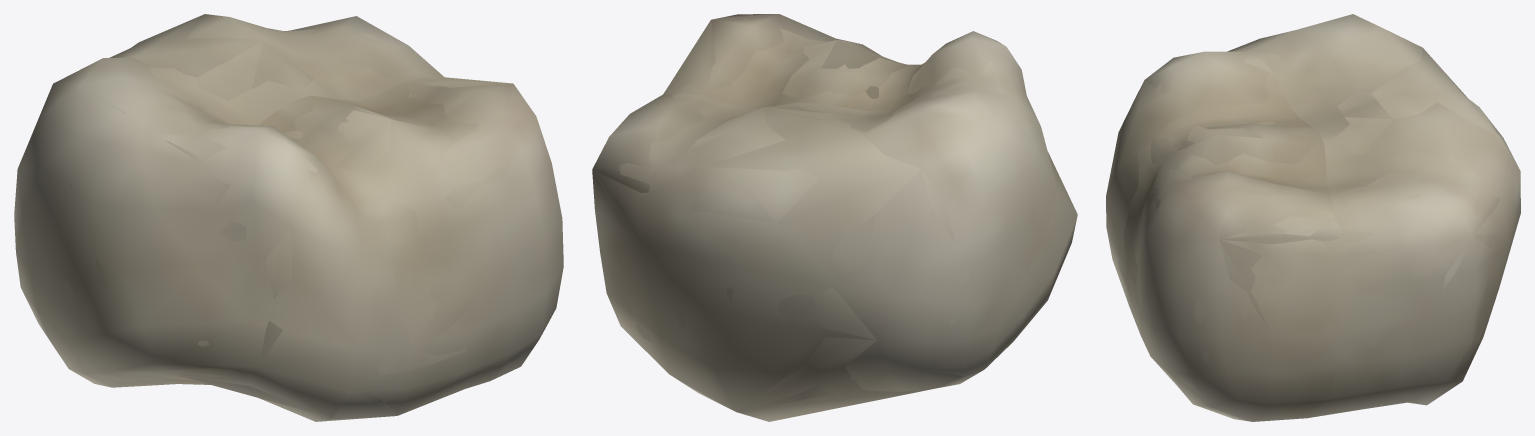
Rendered from L carpi radiale.fbx.
The picture shows the model from 3 angles, left to right: view 1: azimuth 30°, elevation 25°; view 2: azimuth 150°, elevation 25°; view 3: azimuth 270°, elevation 25°; orthographic projection. The views are drawn at different scales.
Visible parts, largest first — view 1: L carpi radiale, L carpi radiale high, L carpi radiale low; view 2: L carpi radiale, L carpi radiale low, L carpi radiale high; view 3: L carpi radiale, L carpi radiale high, L carpi radiale low.
Part boxes in pixels (box(x1,y1,x2,y2)): L carpi radiale: box(14, 14, 563, 421); L carpi radiale high: box(17, 27, 548, 401); L carpi radiale low: box(20, 14, 540, 418); L carpi radiale: box(592, 14, 1077, 411); L carpi radiale low: box(592, 14, 1008, 421); L carpi radiale high: box(615, 18, 1054, 380); L carpi radiale: box(1106, 14, 1520, 421); L carpi radiale high: box(1118, 40, 1494, 410); L carpi radiale low: box(1127, 46, 1520, 416).
Size of the model in its own units: 0.7535 by 0.5783 by 0.7252.
1 material, 1 textured.
